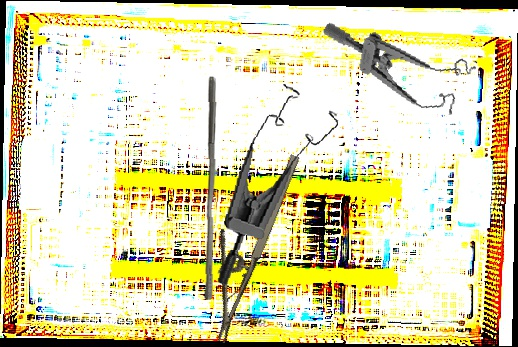Needle Holder: (179, 140, 306, 344)
Pusher: (200, 74, 220, 302)
Speculum: (215, 78, 343, 299), (311, 21, 481, 119)
